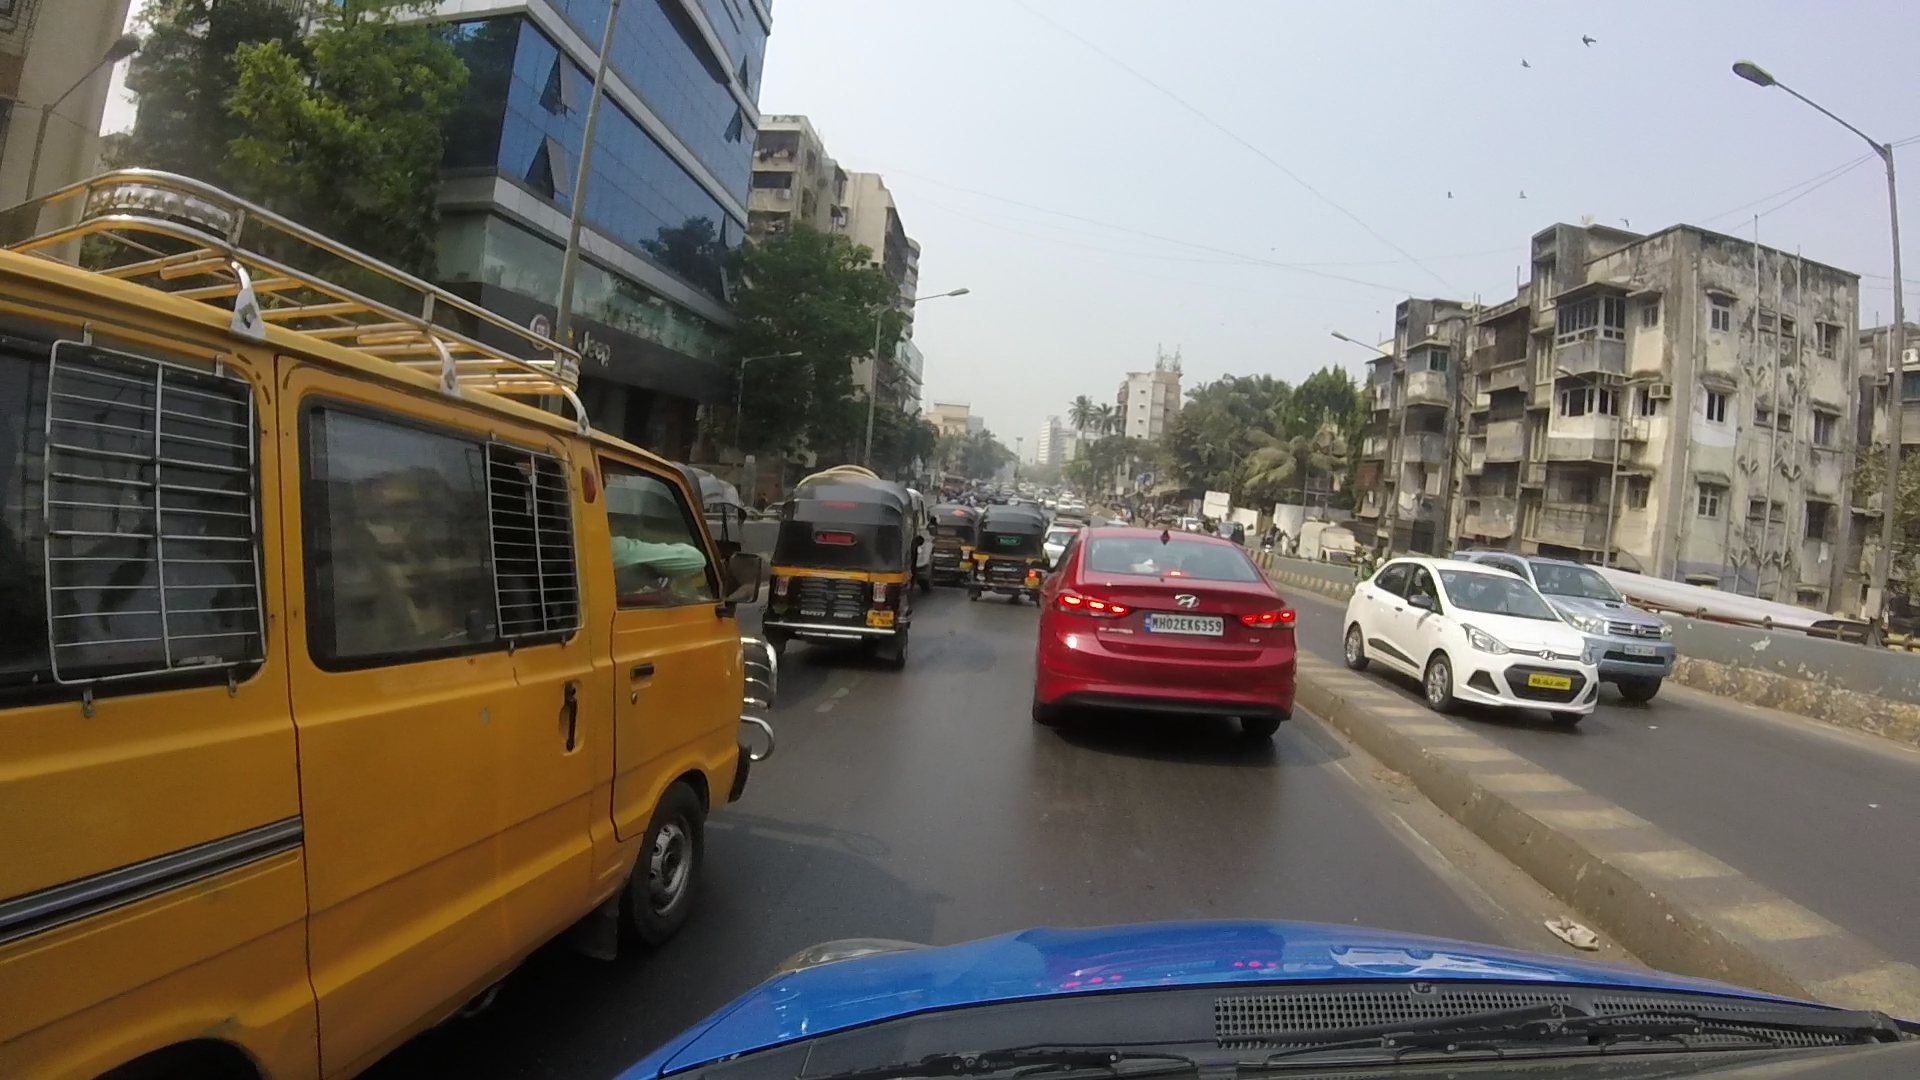bus: (13, 216, 761, 1080)
car: (1043, 522, 1294, 727), (1340, 535, 1600, 731), (1493, 545, 1665, 680)
rickshaw: (775, 492, 909, 663), (957, 498, 1069, 592)
